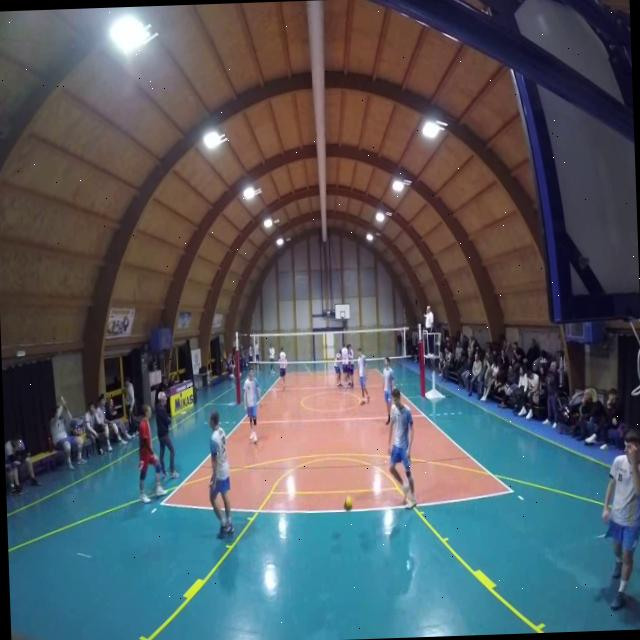Volleyball: (341, 494, 354, 512)
